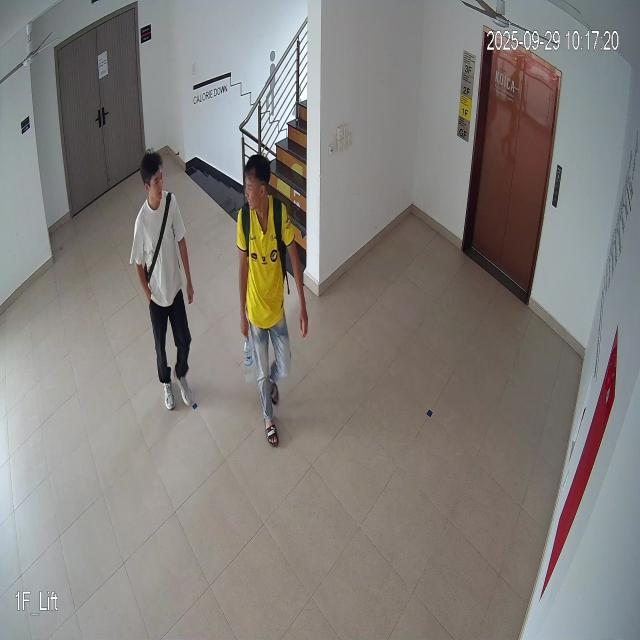face: (243, 154, 273, 212), (141, 150, 165, 209)
